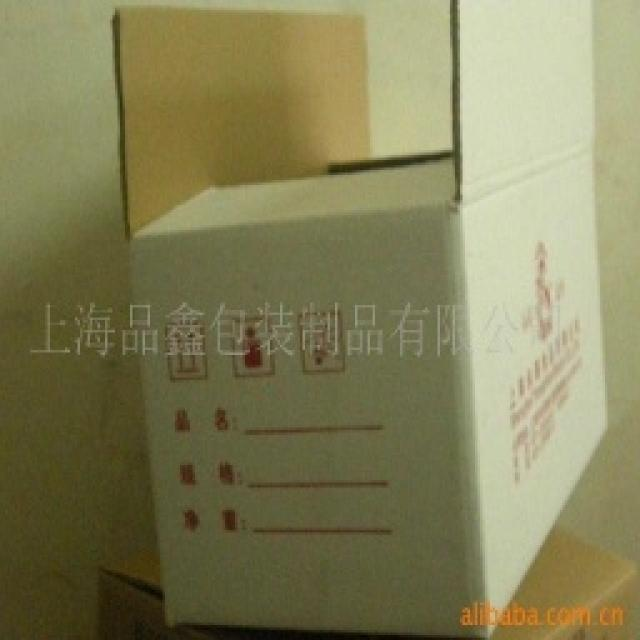box: (81, 6, 625, 640)
